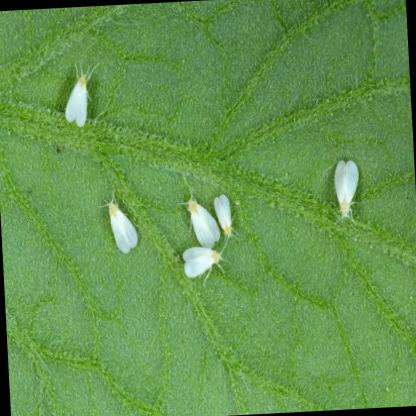whitefly: (188, 198, 221, 247), (333, 159, 358, 218), (110, 204, 138, 255), (63, 76, 88, 128), (183, 245, 218, 275), (212, 195, 232, 237)
